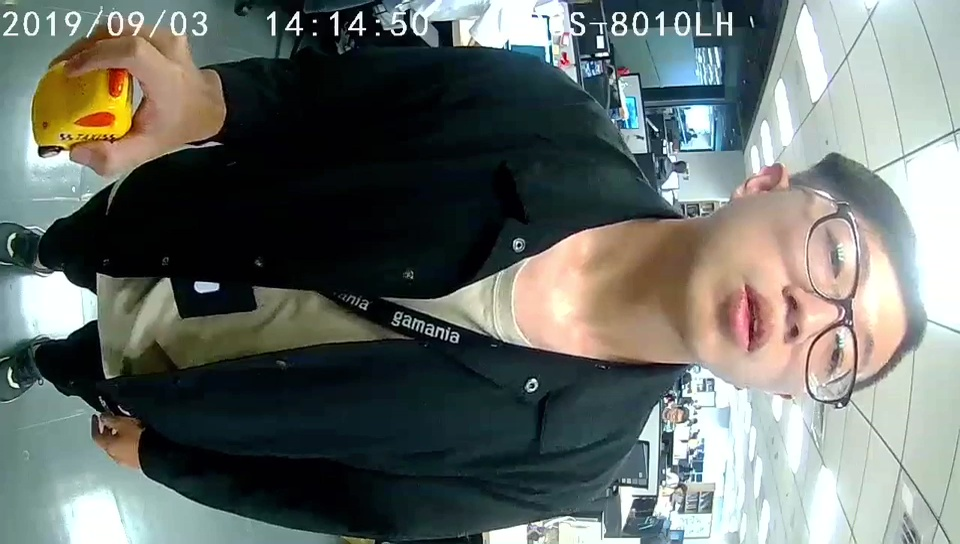car: (32, 59, 135, 148)
